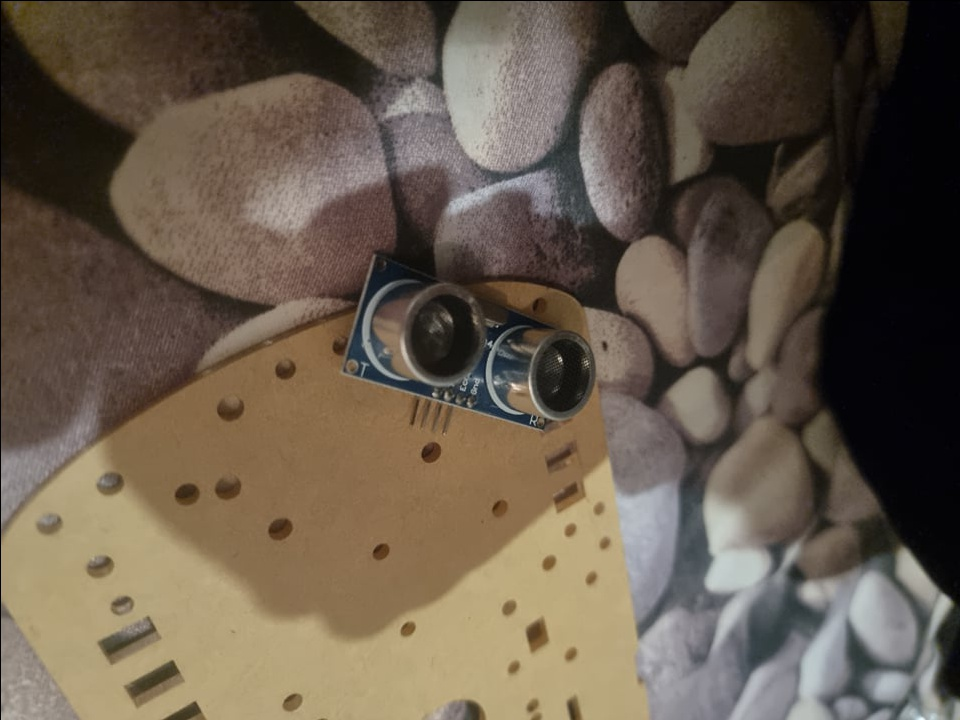SENSOR: (338, 251, 600, 430)
